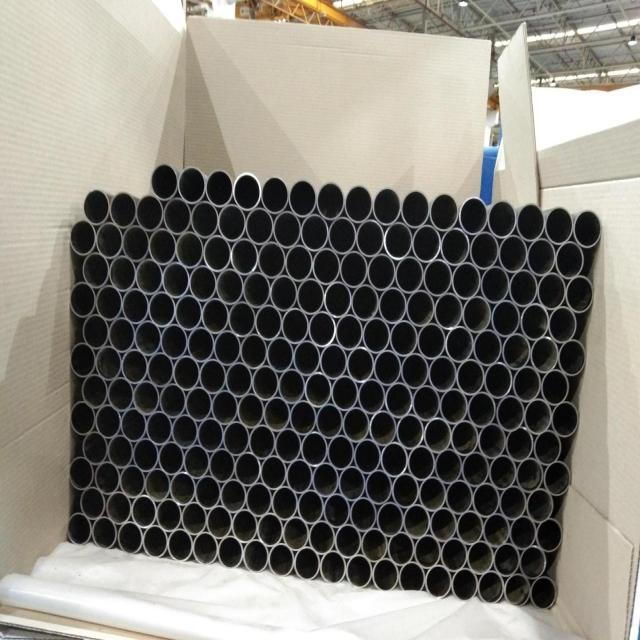pipe: (429, 192, 460, 231), (573, 208, 604, 247), (515, 201, 545, 241), (544, 205, 574, 245), (400, 189, 430, 228), (458, 196, 488, 235), (487, 199, 517, 238), (440, 227, 470, 266), (469, 231, 499, 270), (498, 234, 528, 273), (526, 237, 556, 276), (423, 258, 453, 297), (480, 265, 510, 304), (508, 268, 538, 307), (536, 272, 566, 311), (344, 184, 374, 223), (372, 186, 401, 226), (555, 240, 584, 280), (316, 180, 345, 220), (451, 261, 481, 299), (377, 286, 407, 324), (433, 292, 463, 330), (491, 299, 521, 337), (416, 322, 446, 360), (472, 328, 502, 366), (483, 361, 513, 399), (512, 365, 542, 403), (163, 196, 192, 235), (190, 200, 219, 239), (217, 203, 246, 242), (245, 206, 274, 245), (273, 210, 302, 249), (300, 213, 329, 252), (328, 216, 357, 255), (356, 219, 385, 258), (384, 221, 413, 260), (412, 223, 441, 262), (367, 252, 396, 291), (395, 255, 424, 294), (565, 275, 594, 314), (520, 302, 549, 341), (150, 162, 179, 201), (178, 165, 207, 204), (205, 168, 234, 207), (233, 172, 262, 211), (261, 175, 290, 214), (288, 178, 317, 217), (427, 355, 457, 392), (466, 391, 496, 428), (135, 194, 164, 232), (175, 230, 204, 268), (203, 234, 232, 272), (257, 241, 286, 279), (284, 244, 313, 282), (312, 247, 341, 285), (406, 289, 435, 327), (462, 295, 491, 333), (548, 305, 577, 343), (445, 325, 474, 363), (530, 335, 559, 373), (558, 338, 587, 376), (456, 358, 485, 396), (122, 224, 150, 263), (148, 227, 176, 266), (82, 188, 111, 225), (230, 238, 259, 275), (135, 258, 164, 295), (215, 268, 244, 305), (121, 287, 150, 324), (308, 310, 337, 347), (502, 333, 531, 370), (541, 368, 570, 405), (496, 394, 525, 431), (523, 397, 552, 434), (551, 400, 580, 437), (396, 413, 425, 450), (477, 422, 506, 459), (533, 429, 562, 466), (543, 460, 572, 497), (391, 472, 420, 509), (95, 221, 123, 259), (340, 250, 368, 288), (188, 264, 216, 302), (270, 274, 298, 312), (351, 283, 379, 321), (335, 313, 363, 351), (389, 319, 417, 357), (505, 426, 534, 462), (109, 190, 137, 227), (69, 219, 97, 256), (82, 251, 110, 288), (108, 254, 136, 291), (162, 261, 190, 298), (242, 271, 270, 308), (296, 278, 324, 315), (324, 281, 352, 318), (95, 284, 123, 321), (148, 290, 176, 327), (174, 294, 202, 331), (201, 297, 229, 334), (228, 300, 256, 337), (254, 304, 282, 341), (281, 307, 309, 344), (82, 313, 110, 350), (362, 316, 390, 353), (134, 319, 162, 356), (160, 322, 188, 359), (187, 326, 215, 363), (213, 329, 241, 366), (240, 333, 268, 370), (266, 336, 294, 373), (293, 339, 321, 376), (319, 343, 347, 380), (346, 346, 374, 383), (120, 348, 148, 385), (373, 349, 401, 386), (401, 352, 429, 389), (172, 355, 200, 392), (199, 358, 227, 395), (225, 361, 253, 398), (251, 364, 279, 401), (277, 367, 305, 404), (304, 371, 332, 408), (331, 374, 359, 411), (357, 378, 385, 415), (385, 381, 413, 418), (412, 384, 440, 421), (439, 387, 467, 424), (263, 395, 291, 432), (369, 409, 397, 446), (423, 416, 451, 453), (450, 419, 478, 456), (434, 447, 462, 484), (461, 450, 489, 487), (488, 453, 516, 490), (515, 456, 543, 493), (429, 506, 457, 543), (456, 509, 484, 546), (108, 316, 136, 352), (159, 383, 187, 419), (185, 386, 213, 422), (211, 389, 239, 425), (237, 393, 265, 429), (289, 400, 317, 436), (315, 403, 343, 439), (342, 406, 370, 442), (171, 414, 199, 450), (222, 420, 250, 456), (248, 424, 276, 460), (274, 427, 302, 463), (327, 434, 355, 470), (353, 438, 381, 474), (380, 441, 408, 477), (407, 445, 435, 481), (311, 461, 339, 497), (338, 465, 366, 501), (364, 469, 392, 505), (418, 476, 446, 512), (445, 479, 473, 515), (472, 482, 500, 518), (499, 484, 527, 520), (349, 496, 377, 532), (376, 500, 404, 536), (402, 503, 430, 539), (482, 512, 510, 548), (69, 282, 96, 319), (69, 342, 96, 379), (147, 351, 174, 388), (451, 566, 478, 603), (478, 569, 505, 606), (145, 410, 173, 445), (526, 488, 554, 523), (535, 518, 563, 553), (360, 527, 388, 562), (440, 537, 468, 572), (467, 540, 495, 575), (293, 546, 321, 581), (504, 574, 532, 609), (95, 345, 122, 381), (301, 431, 328, 467), (271, 485, 298, 521), (323, 492, 350, 528), (509, 514, 536, 550), (308, 519, 335, 555), (493, 542, 520, 578), (320, 549, 347, 585), (425, 563, 452, 599), (81, 373, 108, 408), (133, 380, 160, 415), (69, 401, 96, 436), (120, 407, 147, 442), (197, 417, 224, 452), (82, 431, 109, 466), (107, 434, 134, 469), (132, 437, 159, 472), (183, 444, 210, 479), (209, 448, 236, 483), (234, 451, 261, 486), (260, 455, 287, 490), (286, 458, 313, 493), (144, 467, 171, 502), (169, 471, 196, 506), (194, 474, 221, 509), (220, 478, 247, 513), (246, 482, 273, 517), (79, 486, 106, 521), (297, 489, 324, 524), (131, 494, 158, 529), (231, 508, 258, 543), (256, 512, 283, 547), (282, 516, 309, 551), (335, 523, 362, 558), (388, 531, 415, 566), (414, 534, 441, 569), (268, 542, 295, 577), (520, 545, 547, 580), (346, 554, 373, 589), (372, 557, 399, 592), (531, 575, 558, 610), (399, 560, 426, 594), (108, 376, 134, 411), (95, 404, 121, 439), (158, 441, 184, 476), (119, 464, 145, 499), (105, 490, 131, 525), (156, 497, 182, 532), (181, 501, 207, 536), (206, 505, 232, 540), (91, 516, 117, 551), (117, 520, 143, 555), (142, 523, 168, 558), (167, 527, 193, 562), (192, 530, 218, 565), (217, 534, 243, 569), (243, 538, 269, 573), (68, 457, 94, 491), (94, 461, 120, 495), (67, 511, 92, 546)
